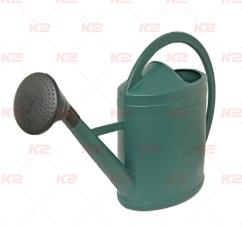ARROSOIR: (11, 4, 220, 216)
